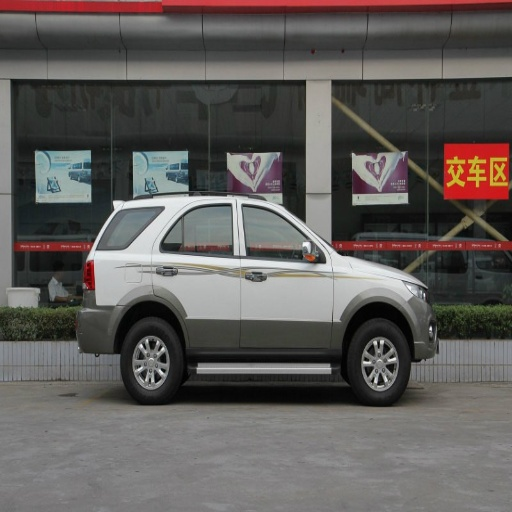back_right_door: (152, 199, 241, 352)
front_right_door: (239, 201, 333, 350)
